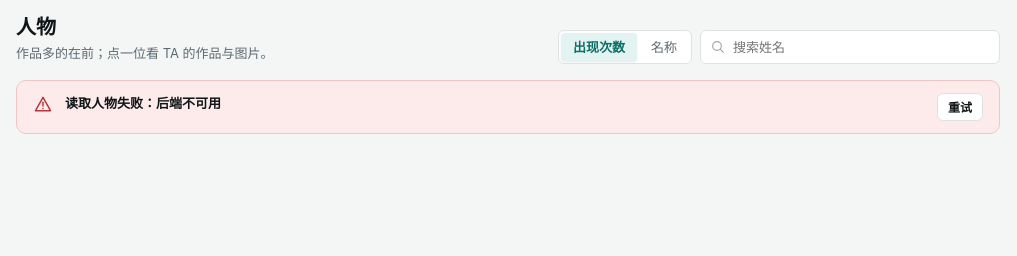
Test: 人物观看页 › 列表读取失败：横幅 + 重试
Expected: the message with test id "entity-browse-list-error" shows "读取人物失败：后端不可用", [65,94,221,110]
Click the button with test id "entity-browse-list-retry" at (960, 106), box [937,92,983,120]
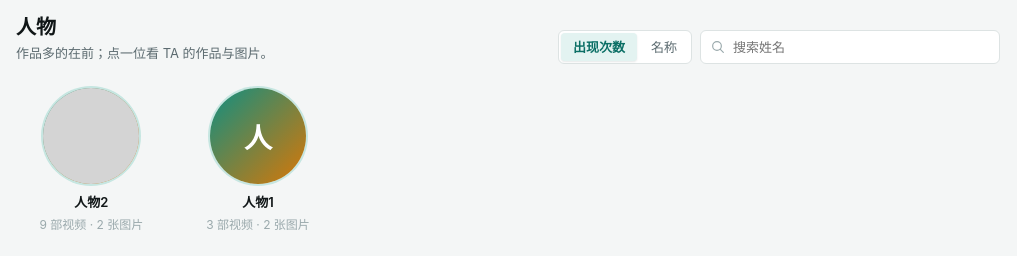
Expected: the button with test id "entity-browse-person-2" is shown, [16,80,167,240]
